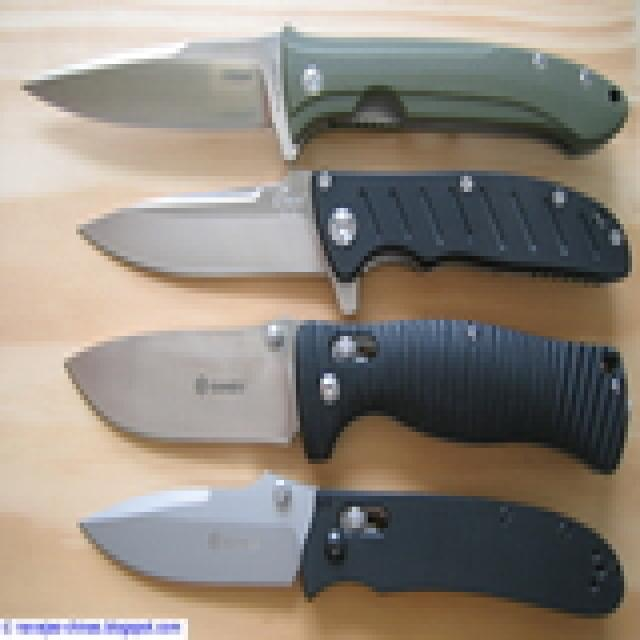Knife: (14, 35, 626, 615)
